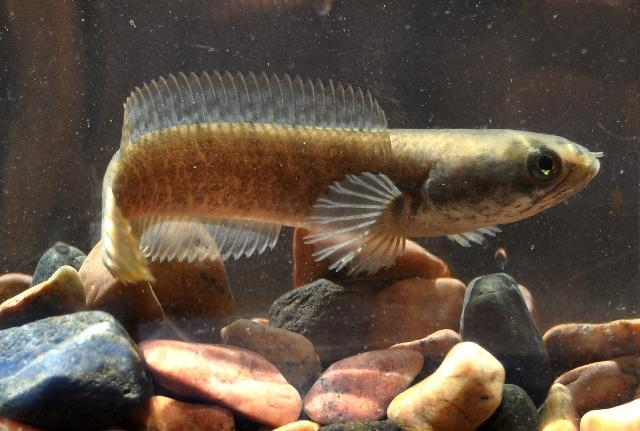Mulut: (498, 140, 612, 218)
Sirip Anal: (117, 212, 290, 272)
Sirip Dada: (294, 170, 412, 276)
Sirip Ekor: (86, 191, 158, 299)
Sirip Punggung: (88, 68, 396, 160)
